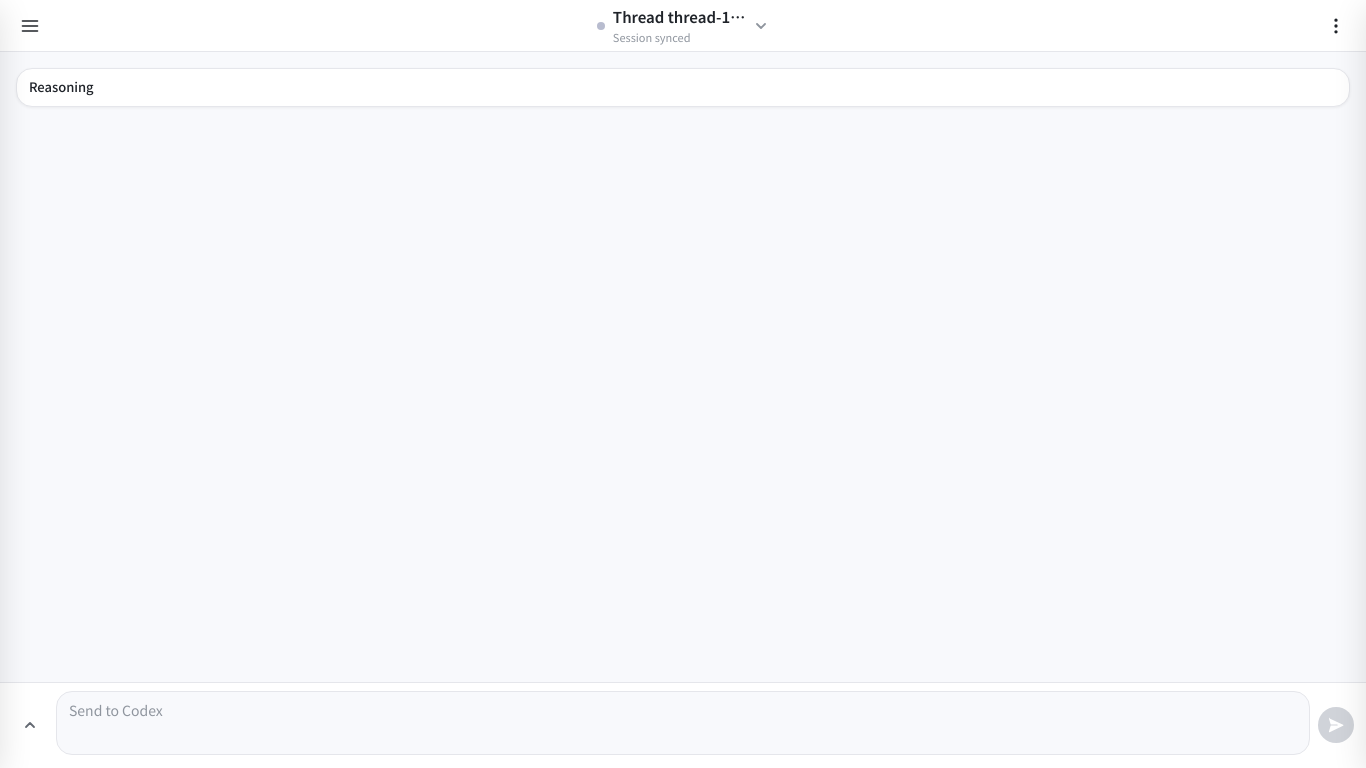
Test case: ChatTranscript markdown integration › renders reasoning card summaries as markdown after expansion
Step 1. Click the heading "Reasoning" → {"x": 61, "y": 86}, box 29,77 -> 94,96
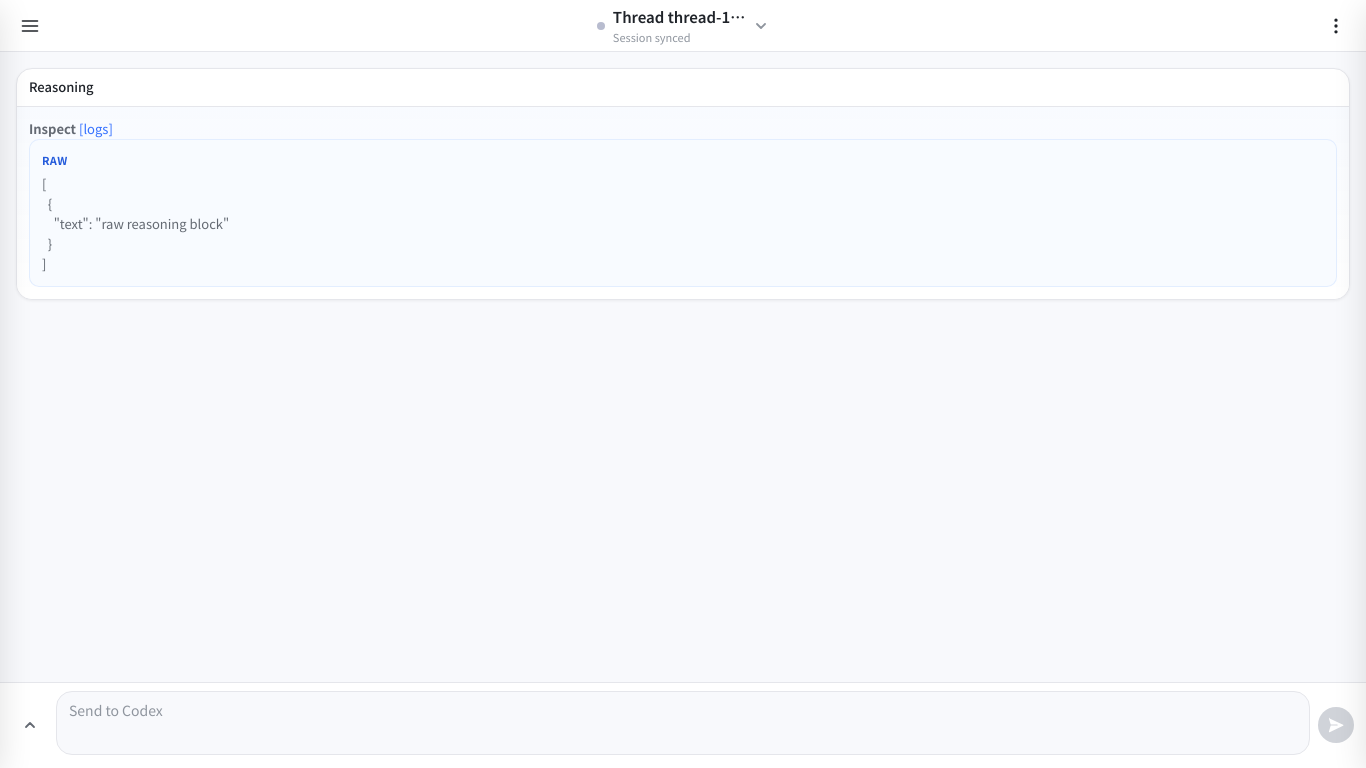
Expected: the text "Inspect" is shown, 29,119 -> 76,138
Expected: the button "[logs]" is shown, 79,119 -> 113,139
